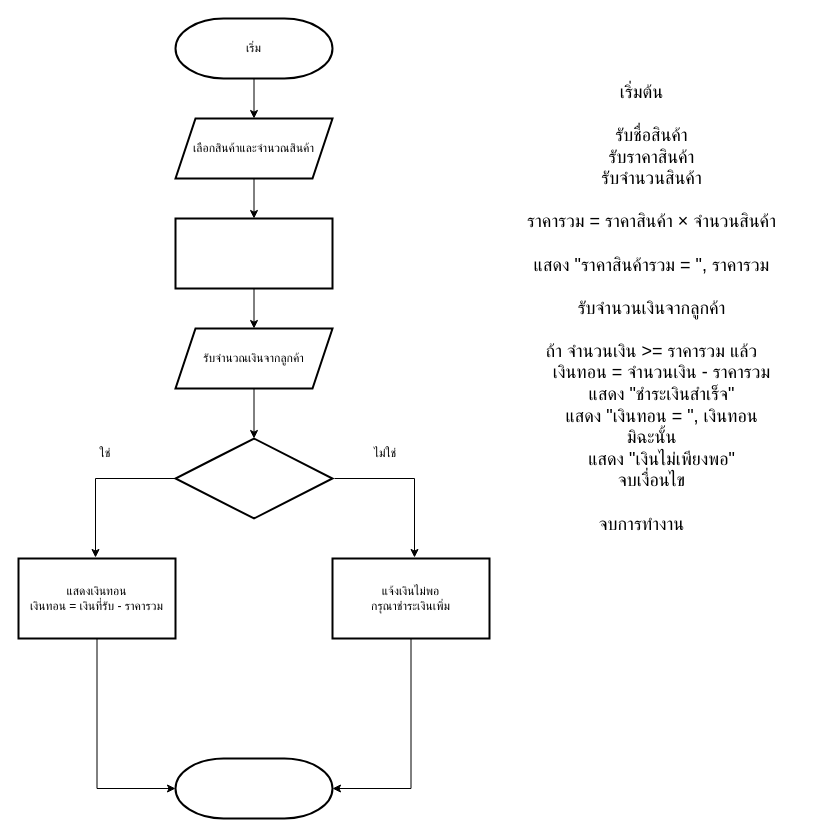
Some shapes in this 825 by 836 pixel diagram are drawn without their labels. The centre of each missing label's shape, as x and y in pixels:
"คำนวณราคา รวม = ราคา x จำนวณ" belongs at (x=253, y=253).
"จบ" belongs at (x=253, y=788).
"เงินพอไหม?" belongs at (x=253, y=478).
